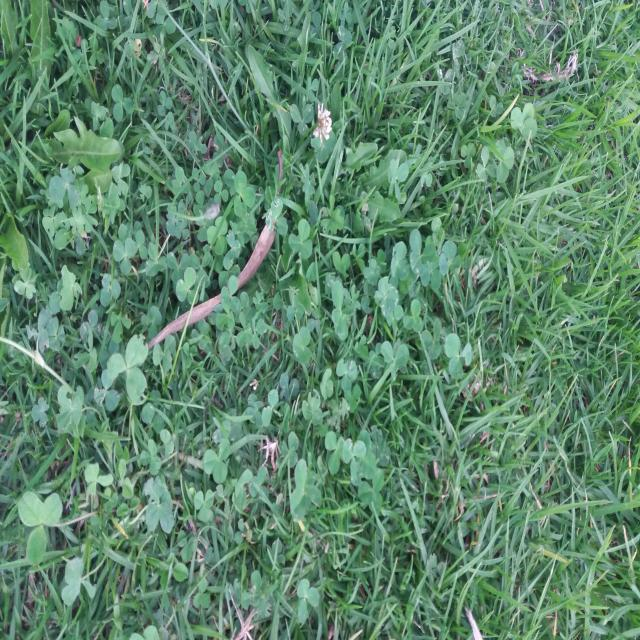Four Leaf Clover: (510, 102, 537, 140), (374, 276, 398, 318), (310, 130, 335, 163)
